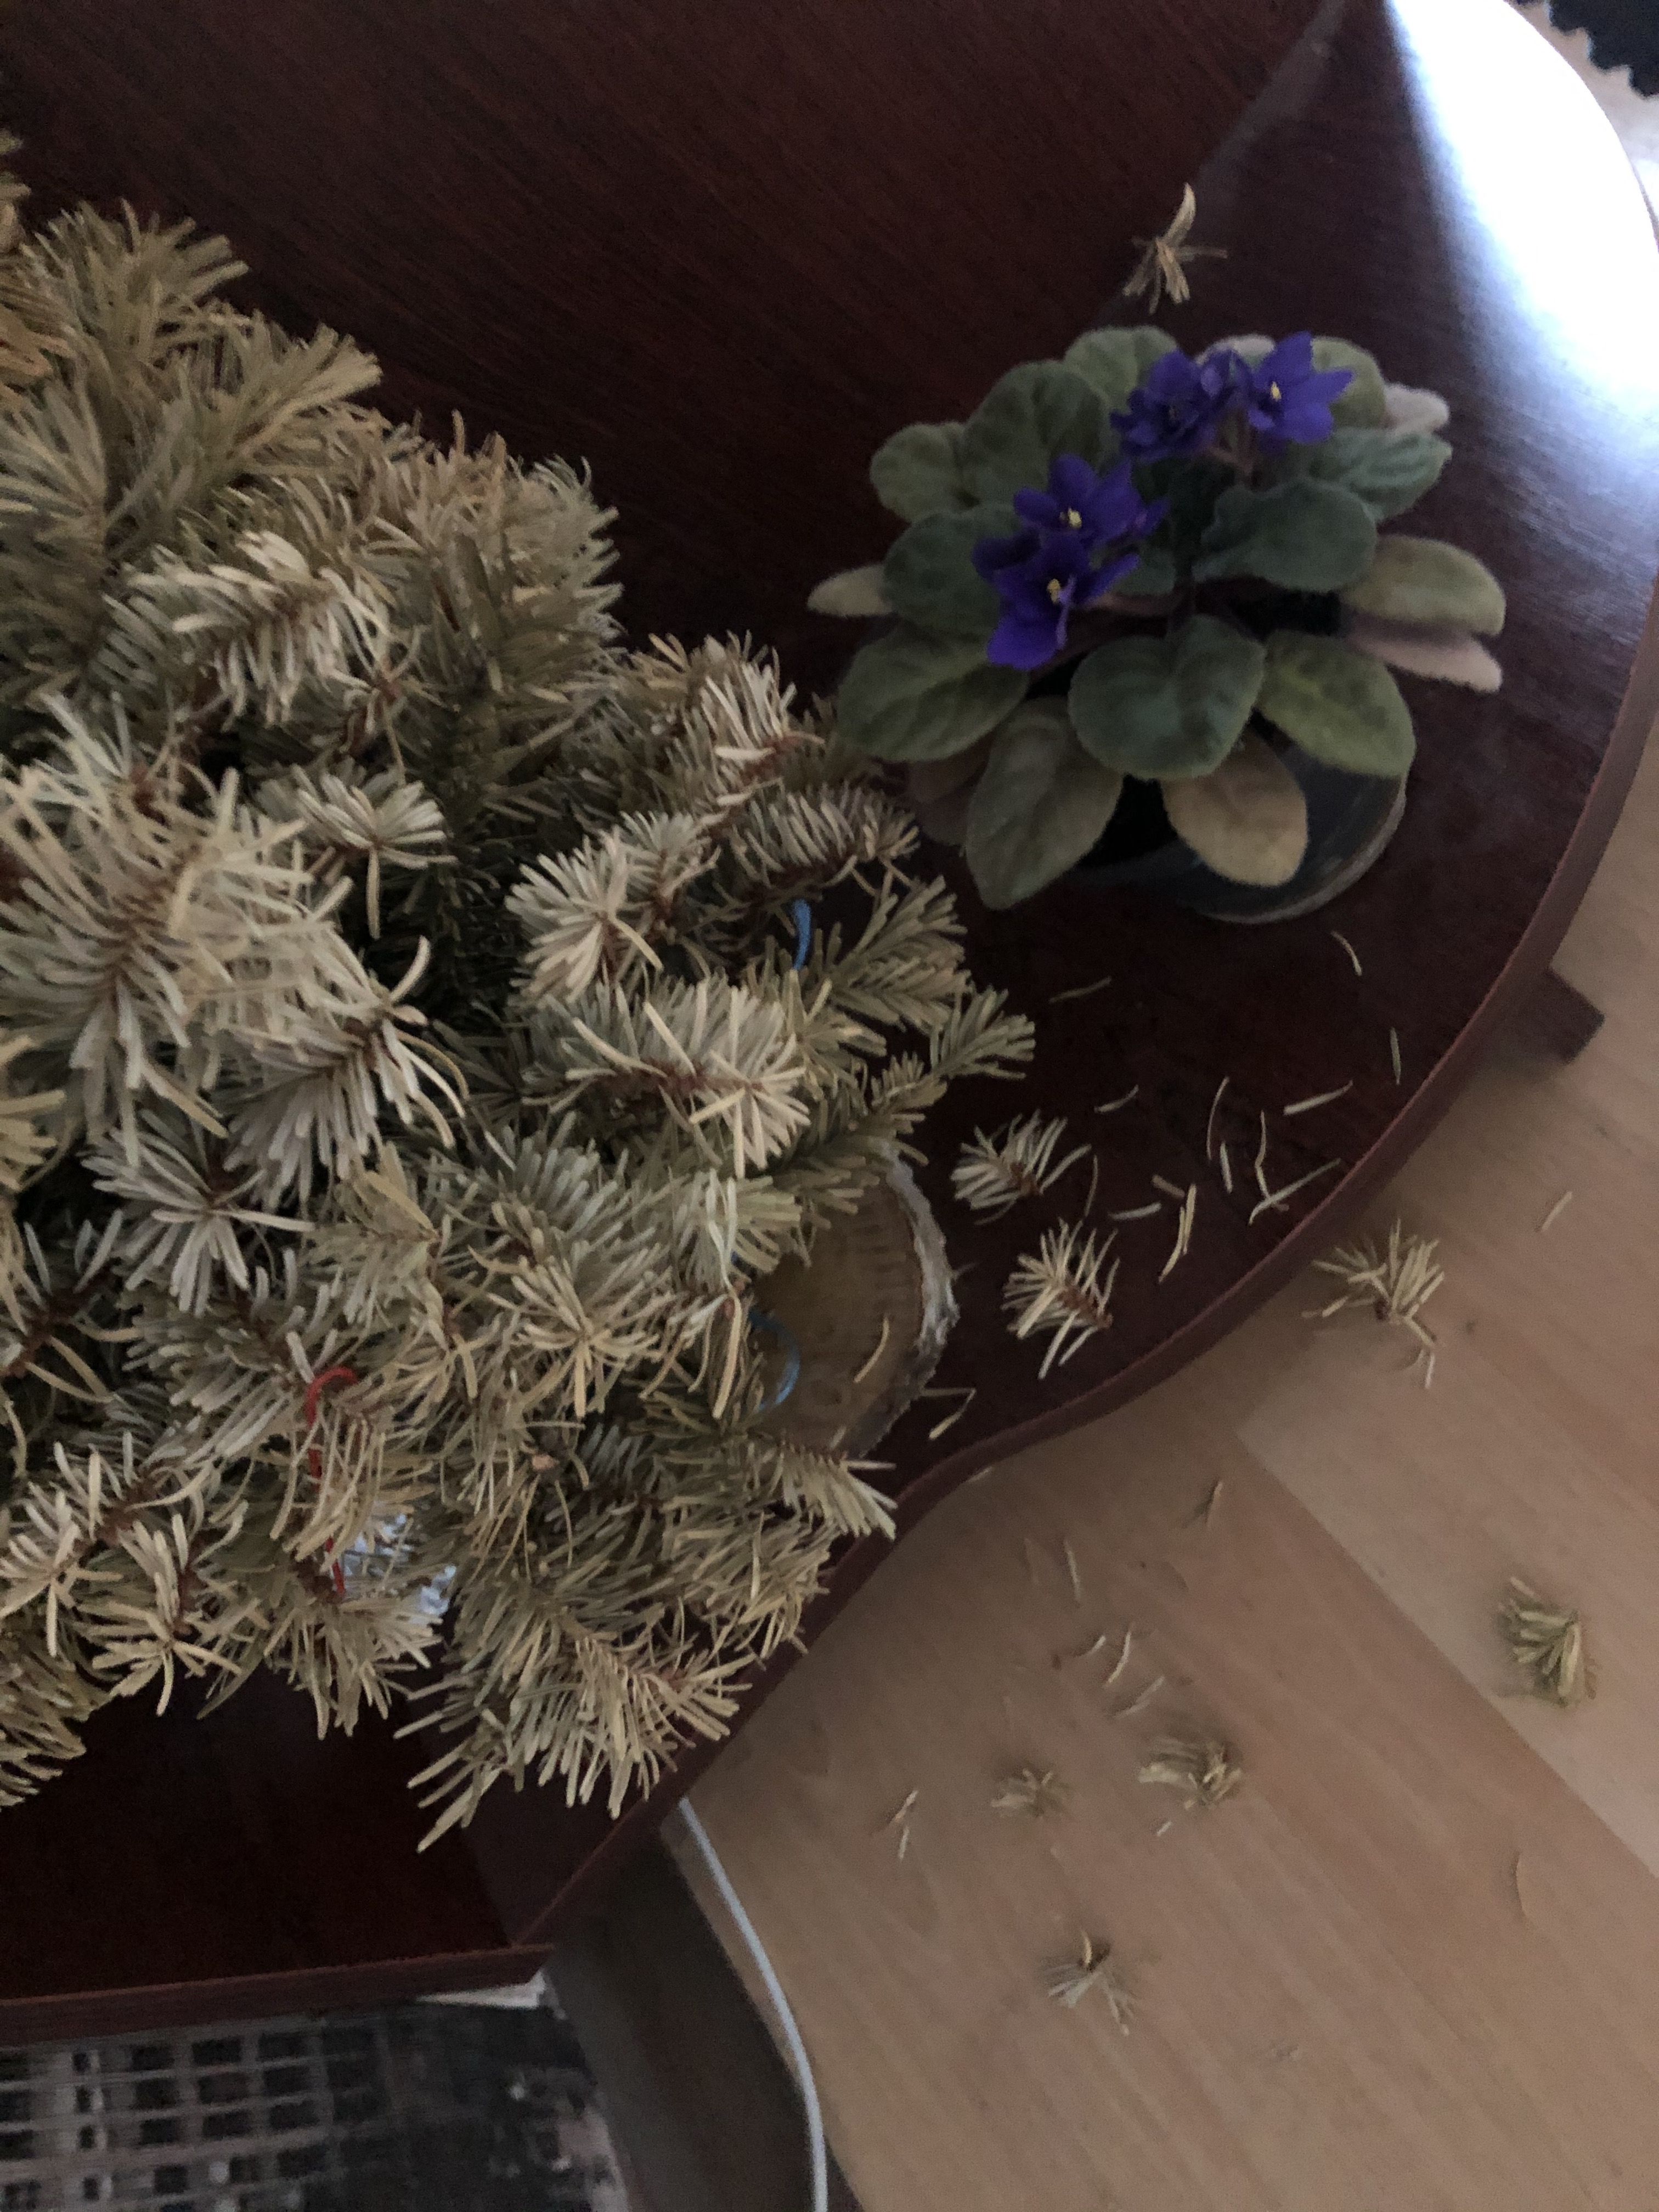ignore: (788, 298, 1516, 928)
